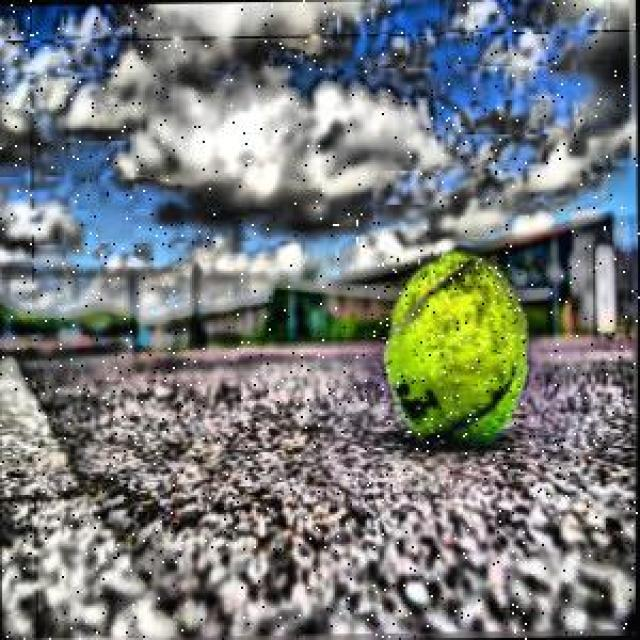tennis-ball: (378, 246, 530, 447)
